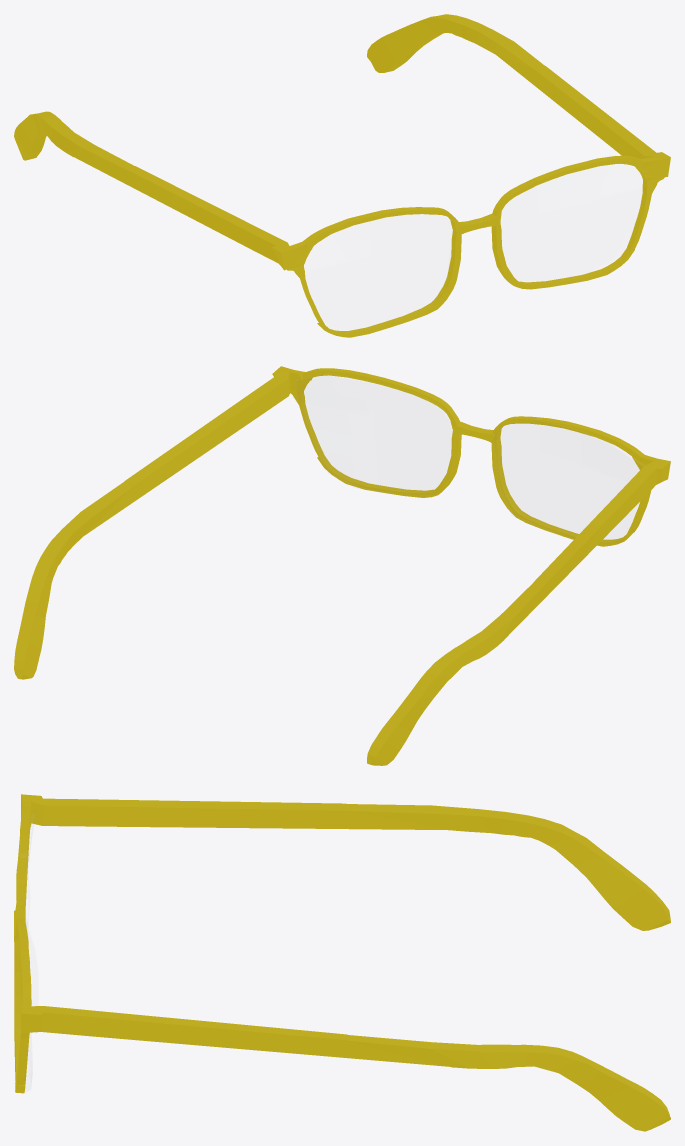
The model's file is 3-Gold.glb.
3 renders of one model, top to bottom at view 1: azimuth 30°, elevation 25°; view 2: azimuth 150°, elevation 25°; view 3: azimuth 270°, elevation 25°, orthographic. The views are drawn at different scales.
Visible parts, largest first — view 1: frameEnd.002; view 2: frameEnd.002; view 3: frameEnd.002.
Part boxes in pixels (x1,y1,x2,y2): frameEnd.002: [14, 14, 670, 337]; frameEnd.002: [14, 366, 670, 765]; frameEnd.002: [14, 794, 670, 1131].
Size of the model in its own units: 2.31 by 0.6281 by 2.63.
